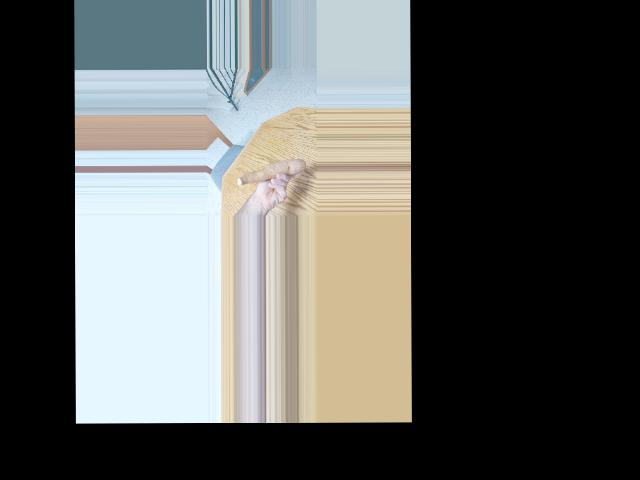sweet_potato: (235, 156, 304, 188)
